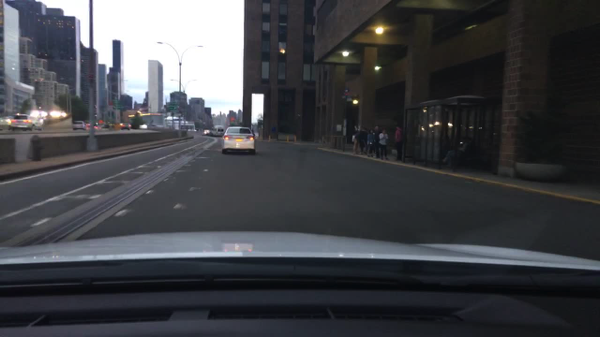car: (221, 127, 256, 155), (10, 114, 45, 132), (208, 125, 223, 137), (72, 120, 86, 130), (120, 121, 131, 129), (98, 121, 107, 128), (109, 121, 117, 128), (202, 130, 210, 136)
person: (440, 136, 474, 171), (392, 124, 405, 161), (378, 130, 388, 162), (357, 125, 367, 154), (372, 125, 380, 158), (353, 126, 361, 153), (367, 128, 374, 154)
traffic sign: (341, 89, 353, 103), (112, 99, 122, 108), (167, 102, 178, 110), (229, 116, 236, 124), (270, 126, 278, 131)
